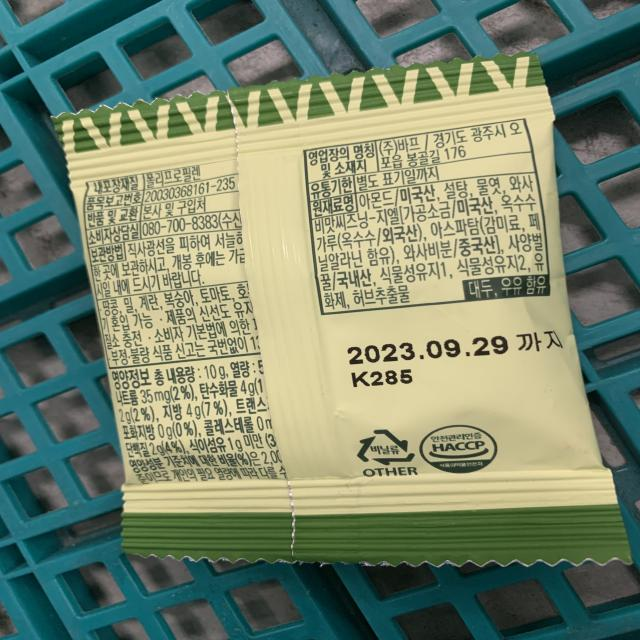object_name: (60, 94, 616, 545)
